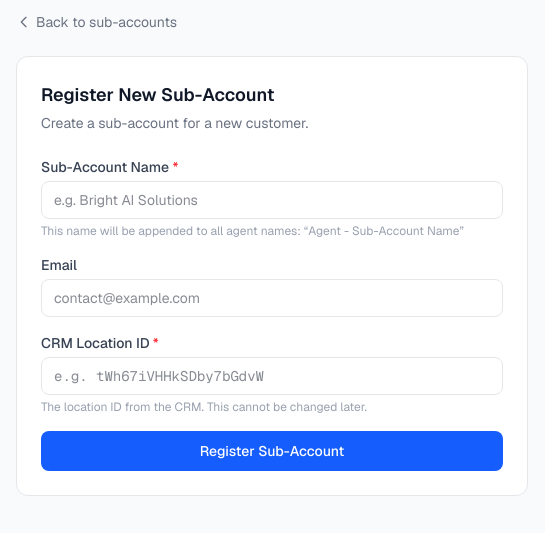
Test: RegisterTenantPage › shows field-level validation errors
Type "x" into the field labelled "Sub-Account Name *" at (272, 200), box left=41, top=181, right=503, bottom=219
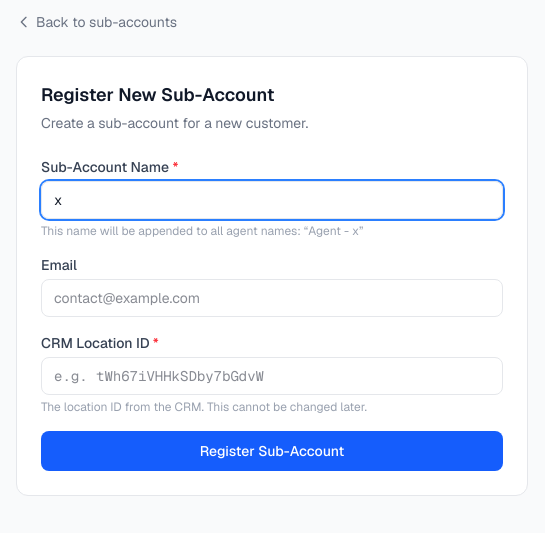
Type "loc_3" into the field labelled "CRM Location ID *" at (272, 376), box left=41, top=357, right=503, bottom=395
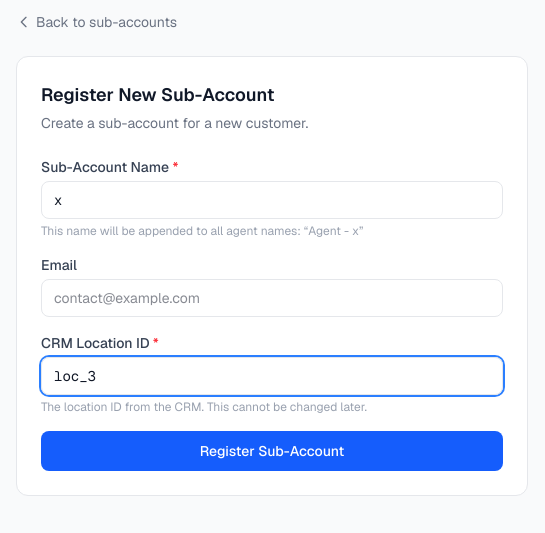
Click the button "Register Sub-Account" at (272, 451), box left=41, top=431, right=503, bottom=471
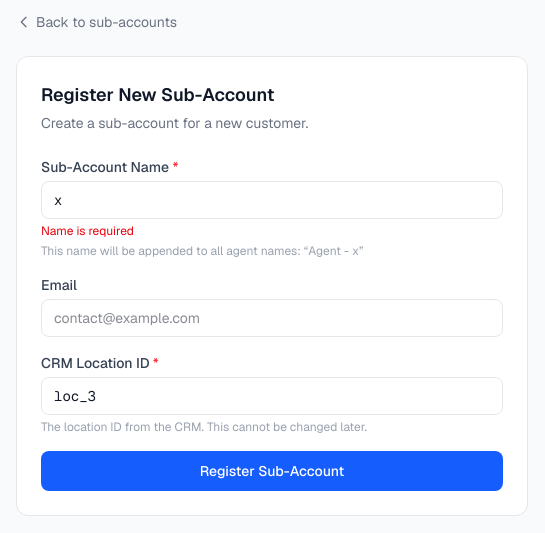
Check: the text "Name is required" is shown, box left=41, top=223, right=134, bottom=239
